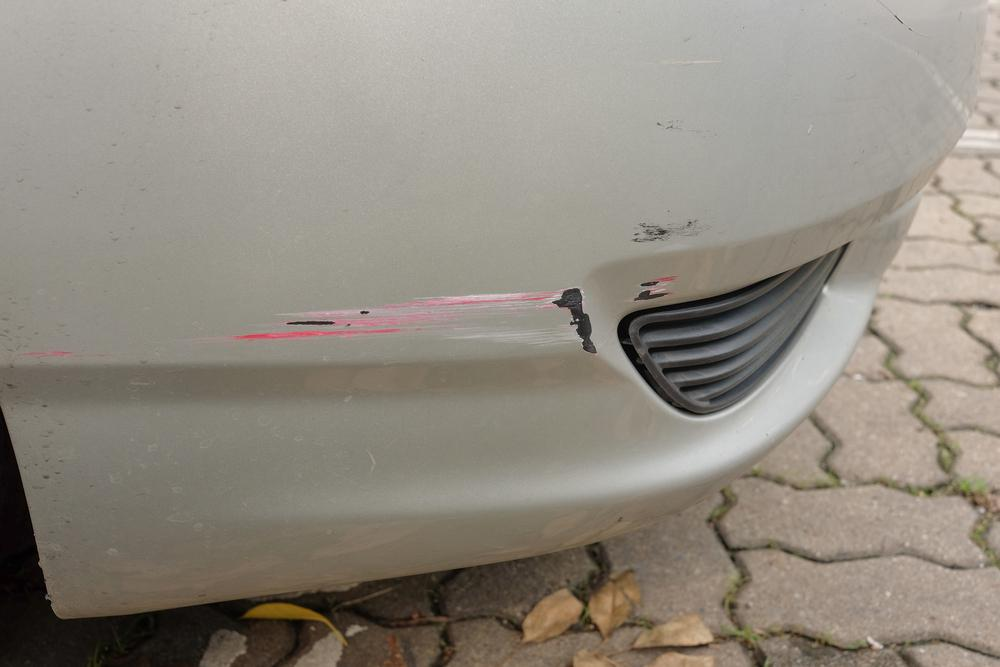scratch: (193, 284, 601, 362), (623, 207, 713, 249), (618, 268, 683, 309)
